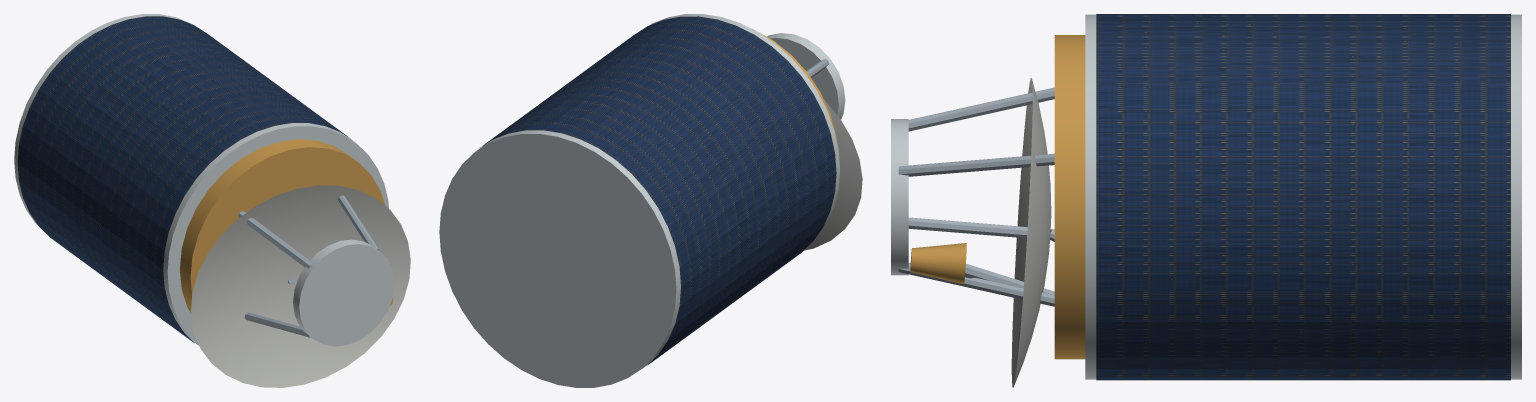
File: ref-hs-351-8838.glb
3 renders of one model, left to right at view 1: azimuth 30°, elevation 25°; view 2: azimuth 150°, elevation 25°; view 3: azimuth 270°, elevation 25°, orthographic. The views are drawn at different scales.
Parts seen in each view (by area): view 1: Body-mounted solar cells, Deck-mounted reflector, Despun equipment deck, Antenna tower platform, Solar drum core, Antenna tower leg (×3); view 2: Body-mounted solar cells, Solar drum core, Deck-mounted reflector, Antenna tower platform; view 3: Body-mounted solar cells, Despun equipment deck, Solar drum core, Deck-mounted reflector, Antenna tower leg (×4), Antenna tower platform, Feed horn, Offset feed boom.
Part boxes in pixels (x1,y1,x2,y2): Body-mounted solar cells: (17, 16, 351, 343); Deck-mounted reflector: (191, 185, 410, 387); Despun equipment deck: (180, 139, 384, 312); Antenna tower platform: (293, 239, 394, 346); Solar drum core: (14, 14, 388, 345); Antenna tower leg (×3): (238, 195, 378, 337); Body-mounted solar cells: (480, 16, 836, 365); Solar drum core: (439, 14, 839, 387); Deck-mounted reflector: (804, 100, 862, 250); Antenna tower platform: (767, 33, 845, 119); Body-mounted solar cells: (1096, 14, 1510, 380); Despun equipment deck: (1054, 35, 1085, 359); Solar drum core: (1085, 14, 1521, 379); Deck-mounted reflector: (1011, 78, 1051, 387); Antenna tower leg (×4): (898, 87, 1054, 306); Antenna tower platform: (891, 119, 908, 275); Feed horn: (910, 243, 966, 284); Offset feed boom: (965, 263, 1054, 294).
Size of the model in its own units: 2.41 by 2.45 by 4.15.
5 materials, 1 textured.
